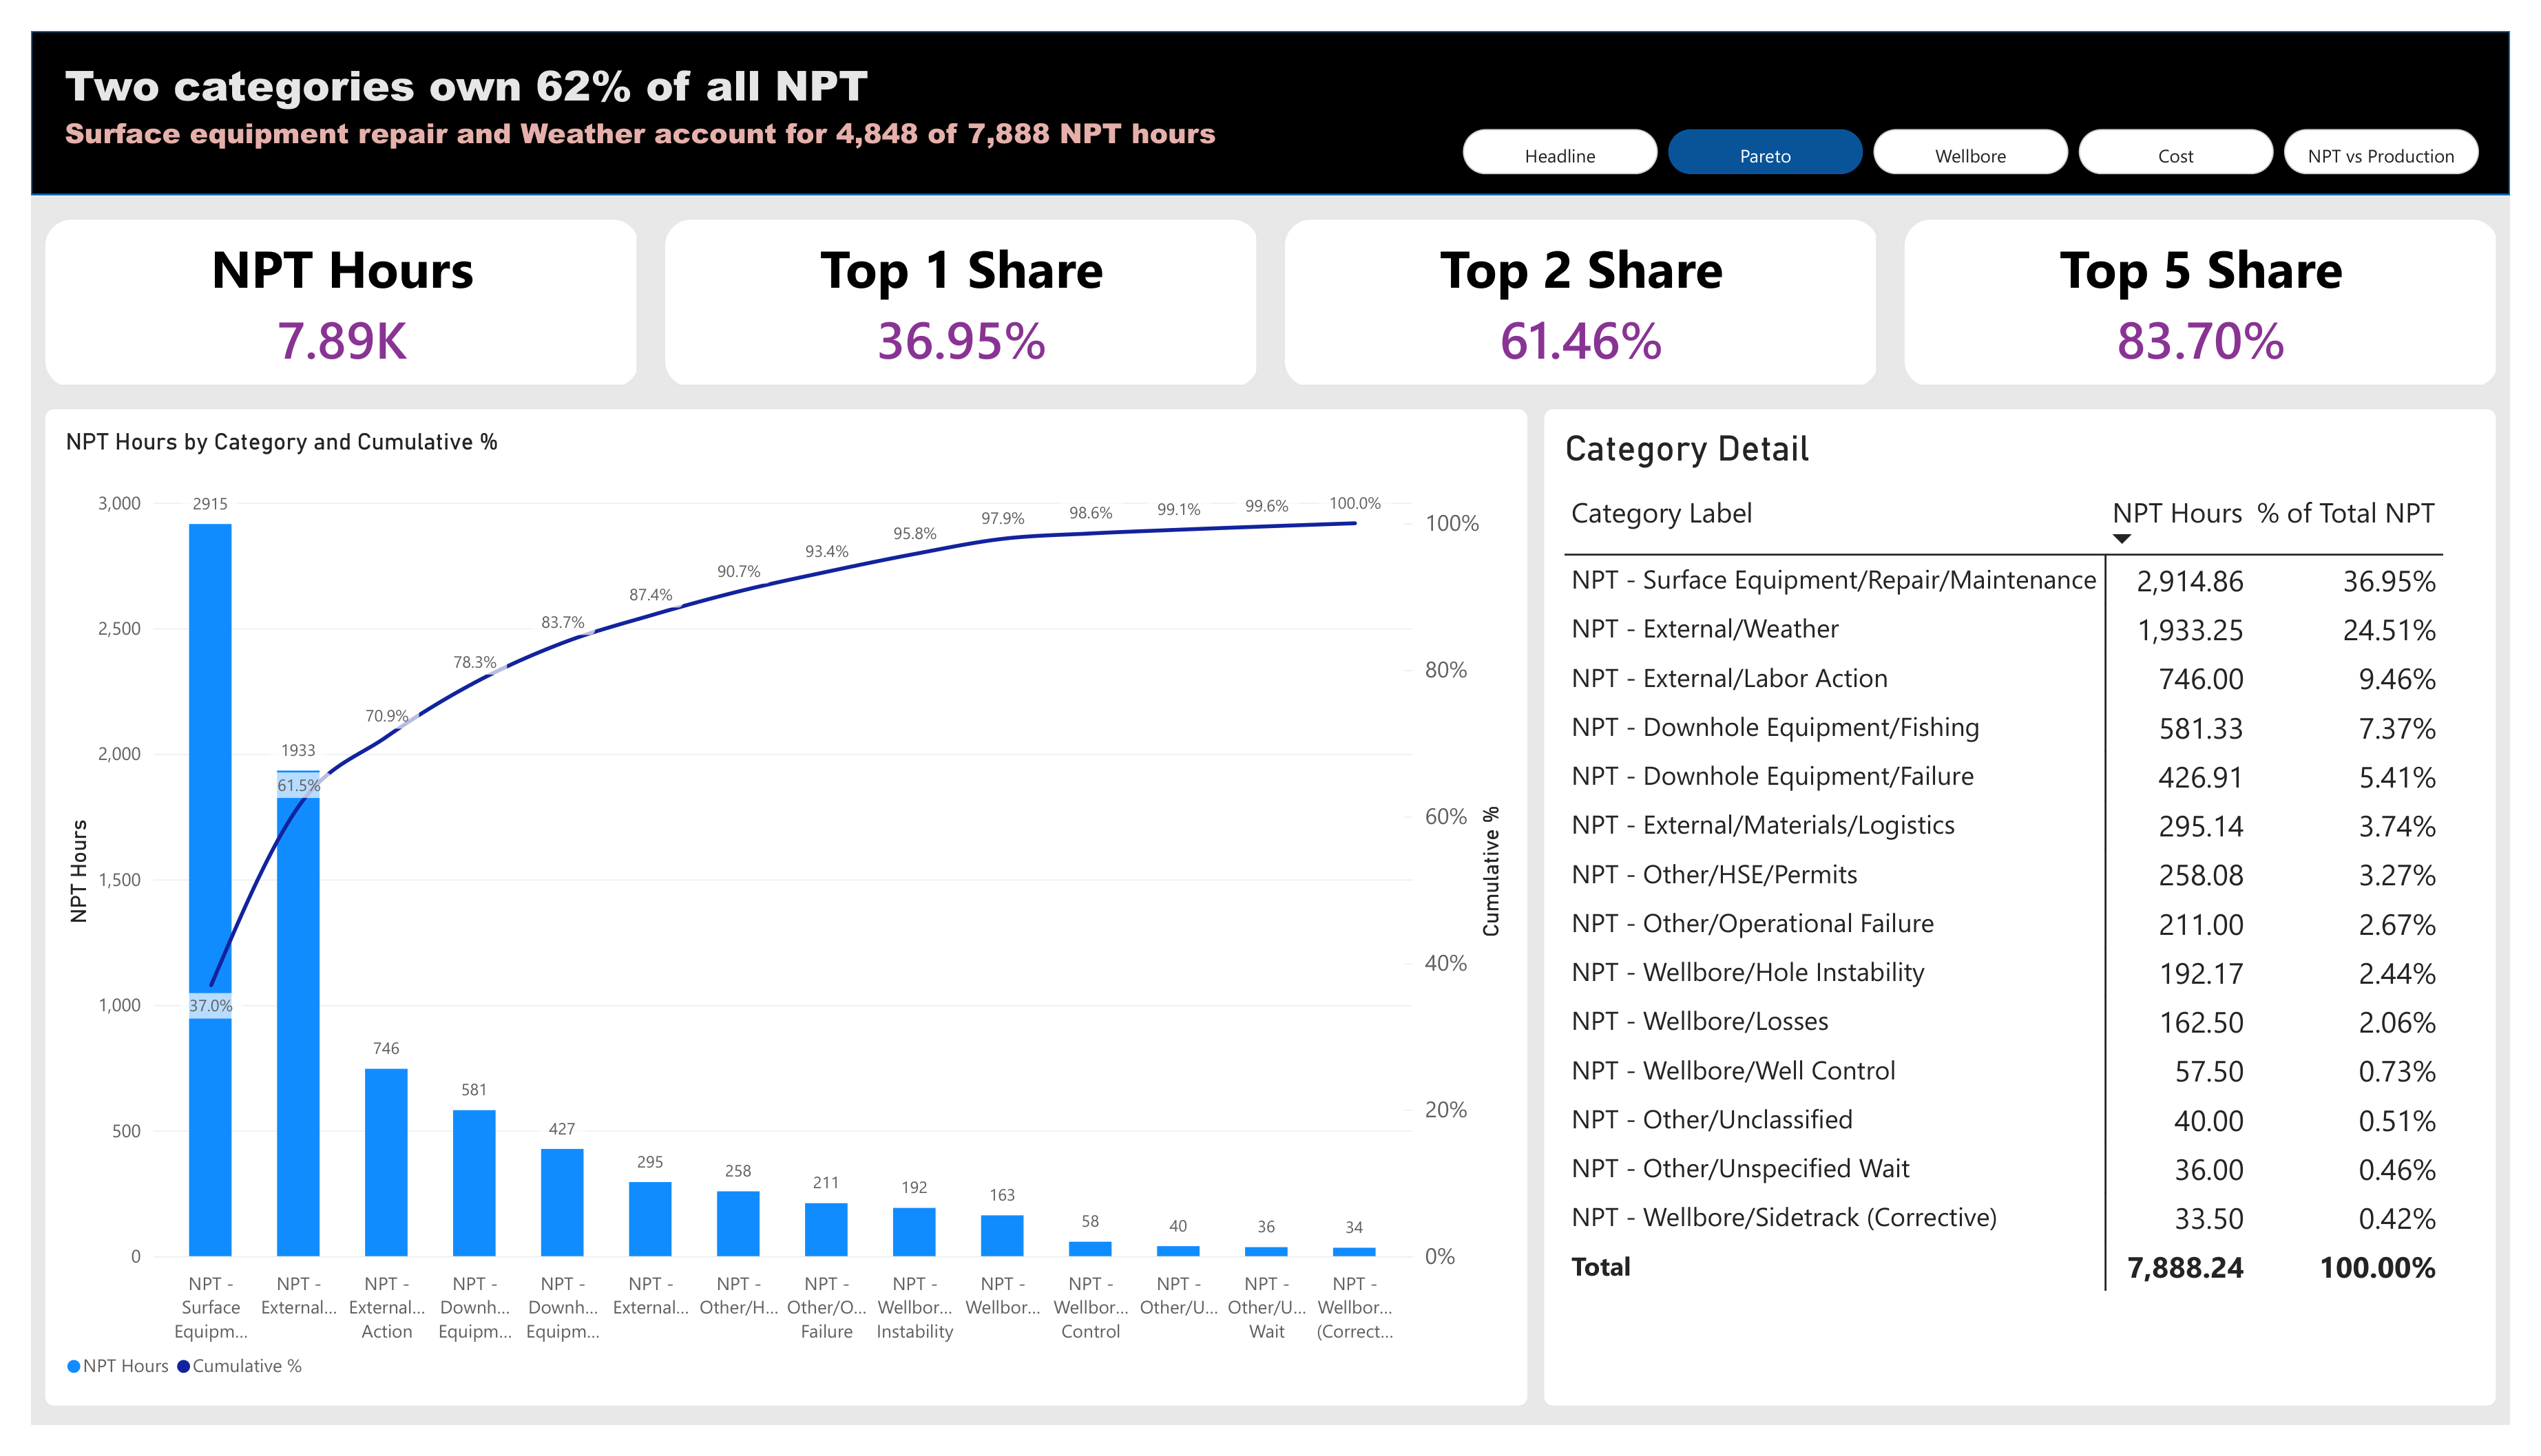

The dashboard page shown, as its layout file describes it:
{"tool":"powerbi","page":{"name":"Pareto","canvas":[1920,1080],"ordinal":1},"visuals":[{"type":"shape","box":[0,0,1920,126.7],"z":0,"group":"g1"},{"type":"lineClusteredColumnComboChart","title":"NPT Hours by Category and  Cumulative %","fields":{"Category":["public dim_npt_category.Category Label"],"Y":["_Measures.NPT Hours"],"Y2":["_Measures.Cumulative %"]},"box":[10.3,292.3,1150,773.9],"z":0},{"type":"pivotTable","title":"Category Detail","fields":{"Rows":["public dim_npt_category.Category Label"],"Values":["_Measures.NPT Hours","_Measures.% of Total NPT"]},"box":[1171.2,292.3,738.9,773.9],"z":1000},{"type":"cardVisual","fields":{"Data":["_Measures.NPT Hours"]},"box":[10,145,460,130],"z":2000},{"type":"pageNavigator","box":[1109,76,791,35],"z":3000,"group":"g1"},{"type":"cardVisual","fields":{"Data":["_Measures.Top 2 Share"]},"box":[970,145,460,130],"z":3000},{"type":"textbox","title":"Volve Field NPT Analysis","box":[26,0,1278,96],"z":4000,"group":"g1"},{"type":"cardVisual","fields":{"Data":["_Measures.Top 1 Share"]},"box":[490,145.4,460,130],"z":4000},{"type":"cardVisual","fields":{"Data":["_Measures.Top 5 Share"]},"box":[1450,145,460,130],"z":5000},{"type":"group","id":"g1","title":"Group 1","box":[0,0,1920.4,127.6],"z":6000}]}

Visuals, with their boxes in screenshot pixels (x1, y1, x2, y2), scaled from the page's 1920x1080 canvas onto the 2541x1456 screenshot:
shape: 0, 0, 2540, 171
"NPT Hours by Category and  Cumulative %" lineClusteredColumnComboChart: 14, 394, 1536, 1437
"Category Detail" pivotTable: 1550, 394, 2528, 1437
cardVisual - _Measures.NPT Hours: 13, 196, 622, 371
pageNavigator: 1467, 103, 2515, 149
cardVisual - _Measures.Top 2 Share: 1284, 196, 1892, 371
"Volve Field NPT Analysis" textbox: 34, 0, 1726, 129
cardVisual - _Measures.Top 1 Share: 649, 196, 1257, 371
cardVisual - _Measures.Top 5 Share: 1919, 196, 2528, 371
"Group 1" group: 0, 0, 2540, 172
